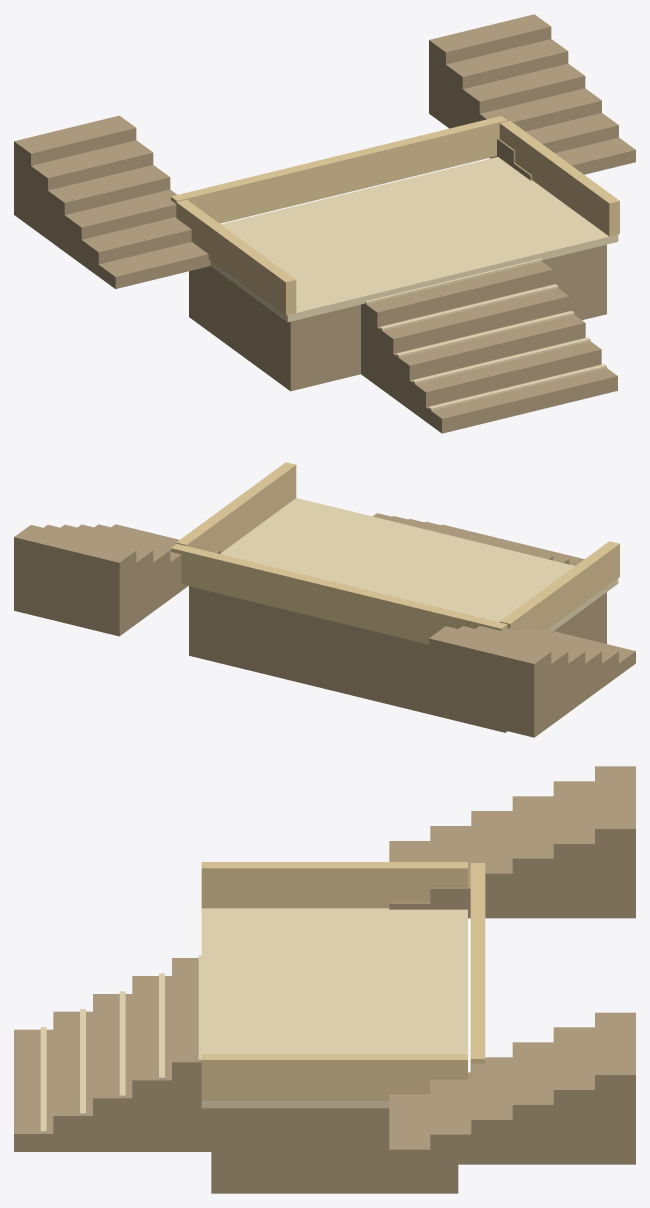
Rendered from stairs_double_landing.fbx.
The picture shows the model from 3 angles, top to bottom: view 1: azimuth 30°, elevation 25°; view 2: azimuth 150°, elevation 25°; view 3: azimuth 270°, elevation 25°; orthographic projection. The views are drawn at different scales.
Parts seen in each view (by area): view 1: stairs_double_landing; view 2: stairs_double_landing; view 3: stairs_double_landing.
Boxes of the visible parts, x1=… form: stairs_double_landing: x1=14, y1=14, x2=635, y2=433; stairs_double_landing: x1=14, y1=462, x2=635, y2=737; stairs_double_landing: x1=14, y1=766, x2=635, y2=1193.
Bounding box in the file's own units: 14.8 × 4 × 12.6.
Materials: 1 (1 with a texture image).
